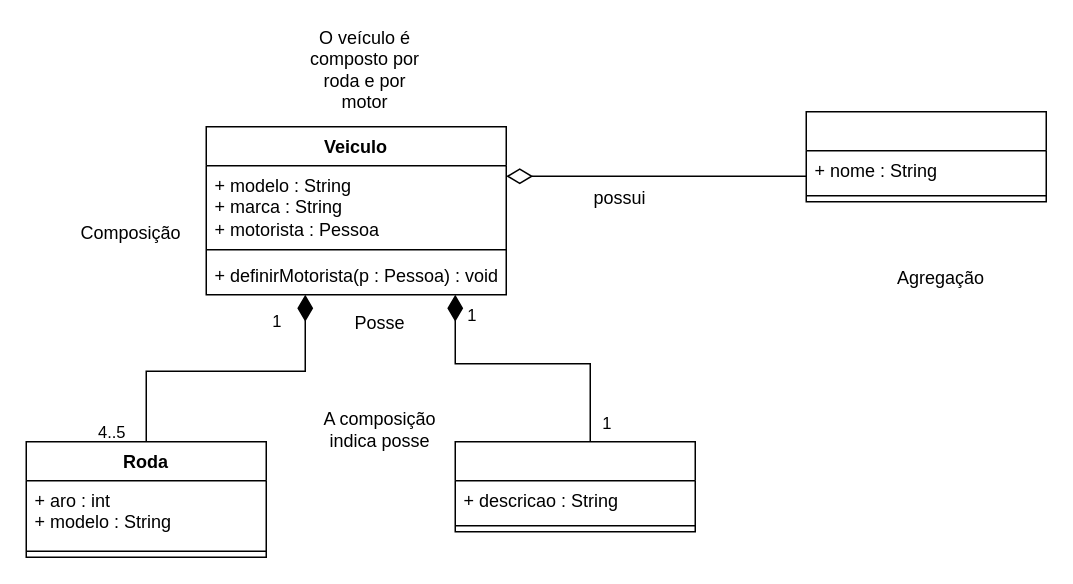
Some shapes in this 1073 by 584 pixel diagram are drawn without their labels. The shapes that lost their labels are listed below. From the top down, each one's box as (x1, y1, x2, y2) in pixels, then its label:
(805, 110, 1046, 202): Pessoa
(454, 440, 695, 532): Motor
